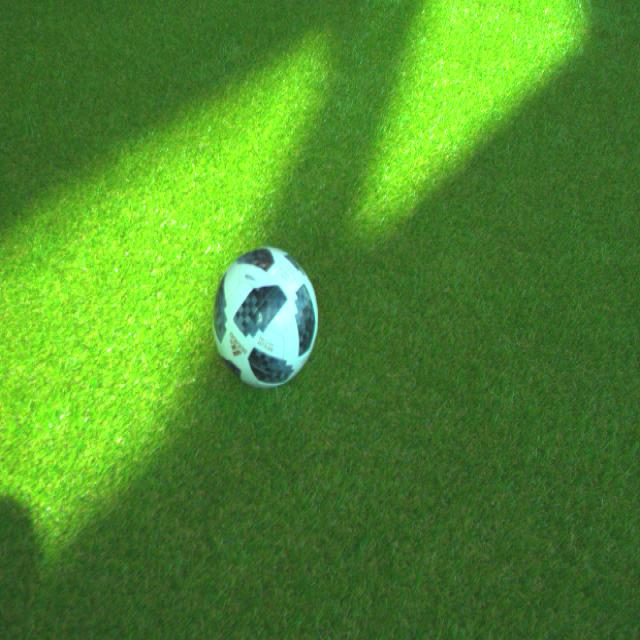ball: (212, 246, 319, 386)
